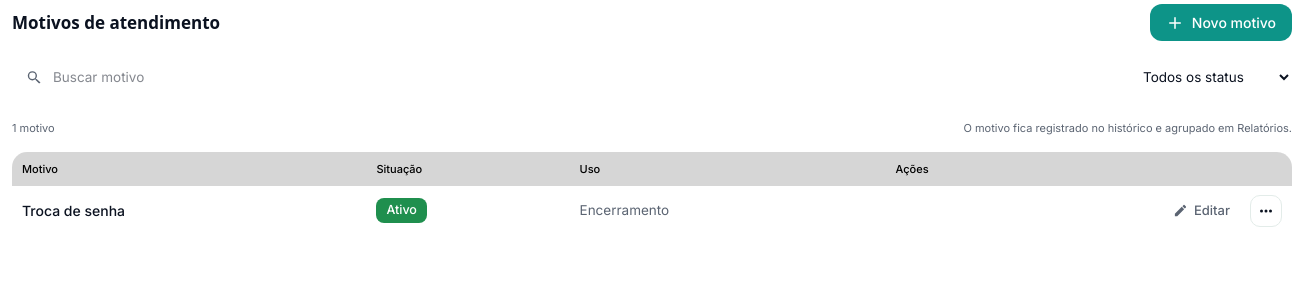
Scenario: ReasonsAdminTab › shows an inline error when toggling active fails
The width and height of the screenshot is (1304, 290).
Click the button named "mais ações". click: (1266, 210)
box: [1250,194,1282,226]
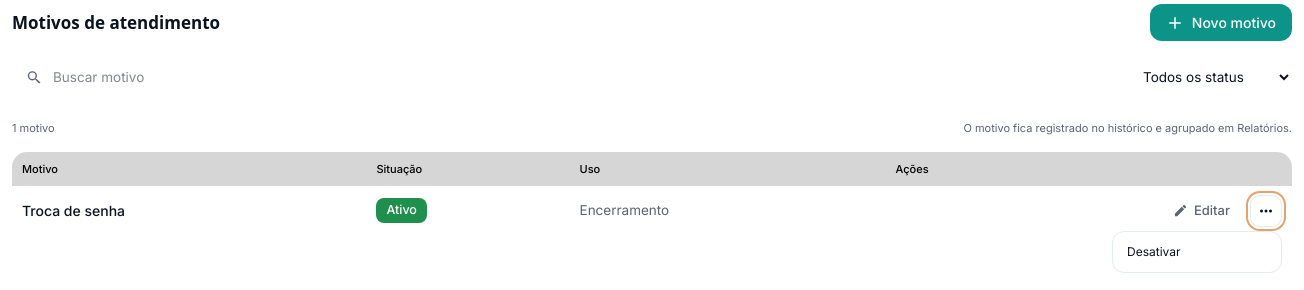
Click the button "Desativar". click: (1197, 252)
box: [1117,236,1277,268]
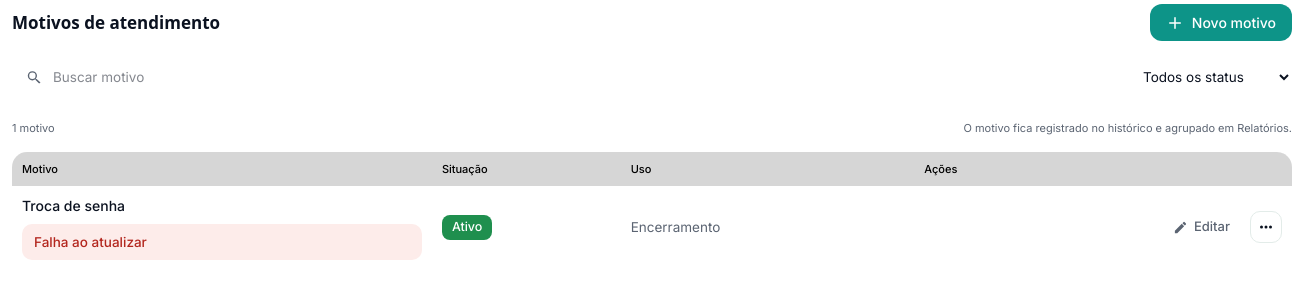
Now the text "Falha ao atualizar" is shown, box [22,224,422,260]
